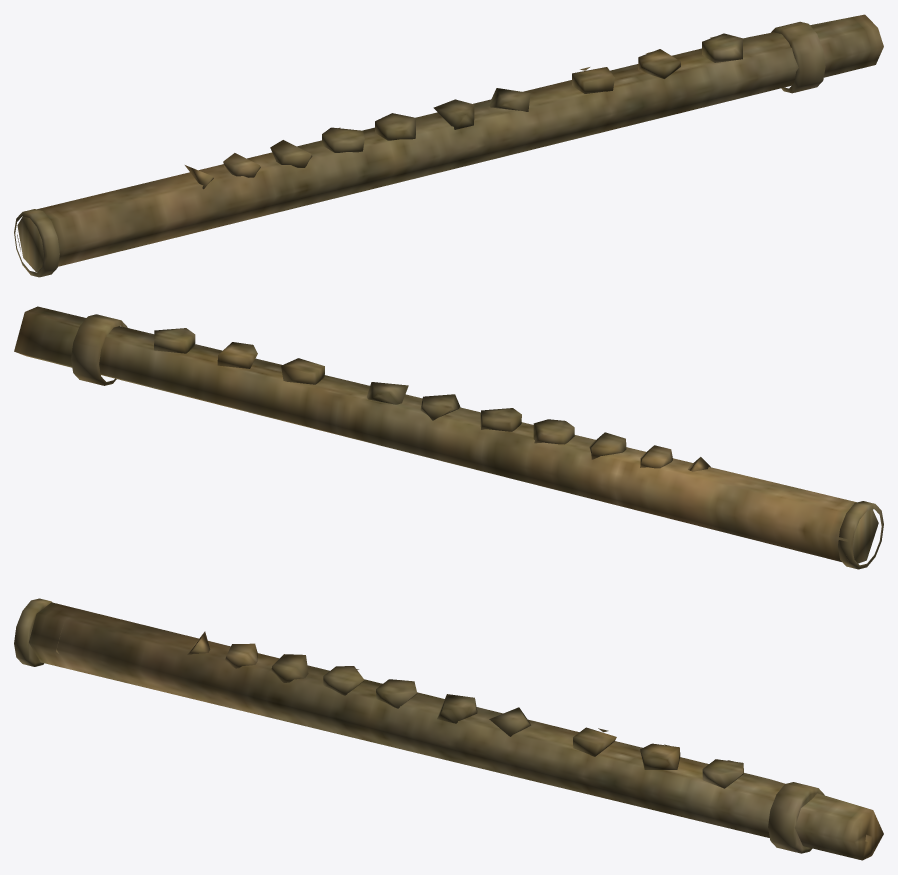
Rendered from flute.glb.
3 renders of one model, top to bottom at view 1: azimuth 30°, elevation 25°; view 2: azimuth 150°, elevation 25°; view 3: azimuth 330°, elevation 25°, orthographic.
Parts seen in each view (by area): view 1: flute.ms3d.mo; view 2: flute.ms3d.mo; view 3: flute.ms3d.mo.
Boxes of the visible parts, box(x1,y1,x2,y2) form: flute.ms3d.mo: box(14, 14, 883, 277); flute.ms3d.mo: box(14, 306, 883, 569); flute.ms3d.mo: box(14, 598, 883, 860).
Bounding box in the file's own units: 13.28 × 0.9611 × 0.9474.
Materials: 1 (1 with a texture image).
